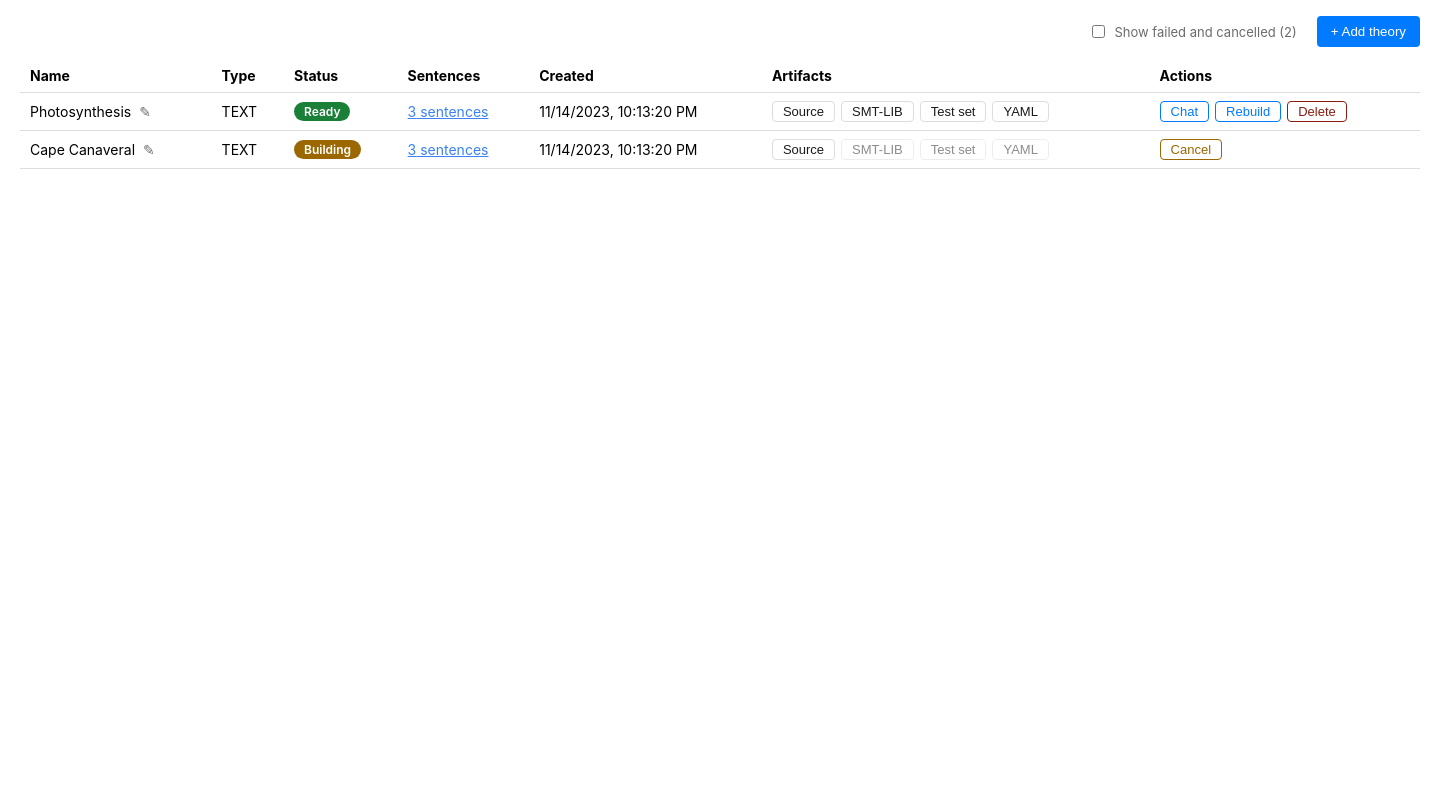
Test: the add-theory form warns against uploading real personal or health data
Click the button "+ Add theory" at (1368, 32), box [1317, 16, 1420, 47]
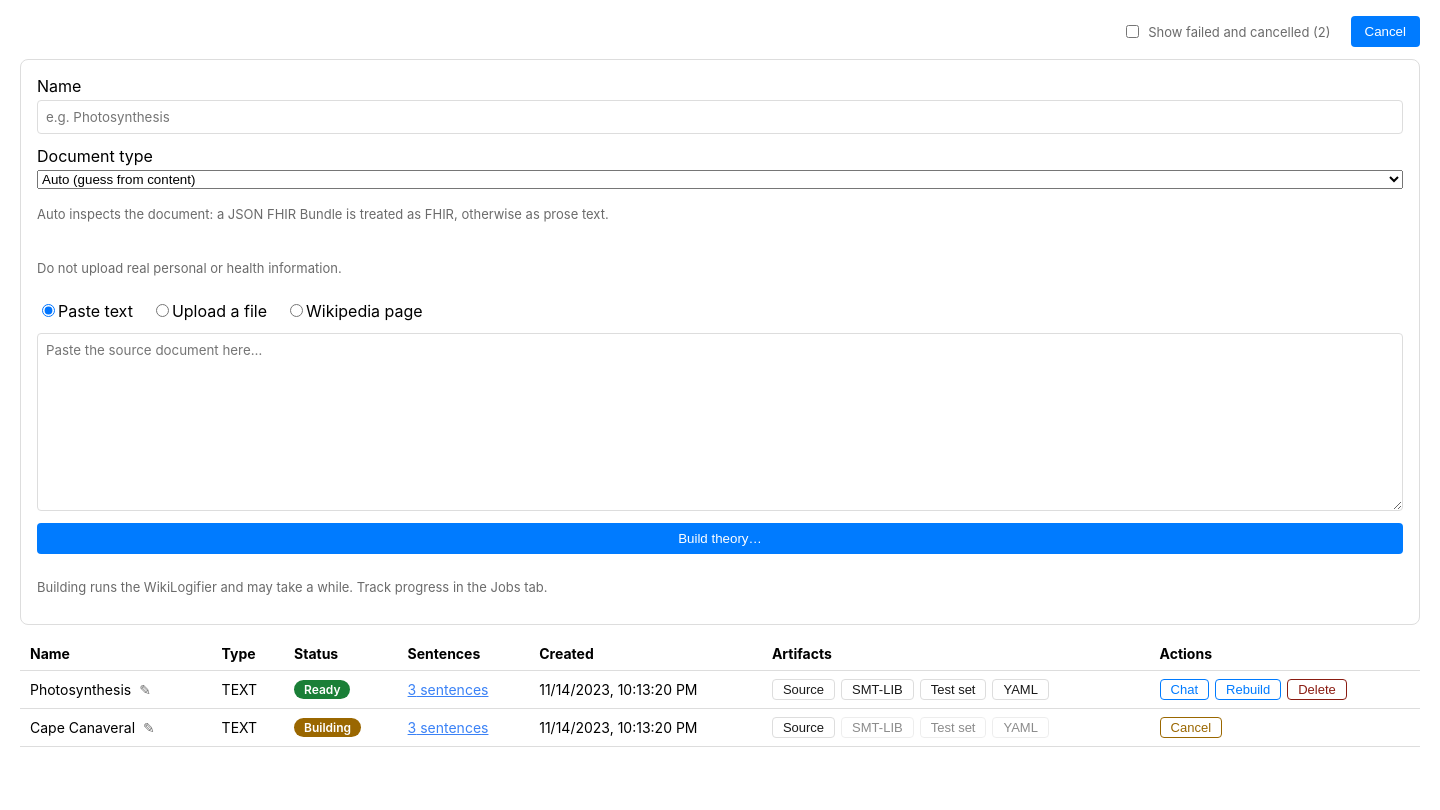
Expected: the text "Do not upload real personal or health information." is shown, [37, 260, 342, 276]
